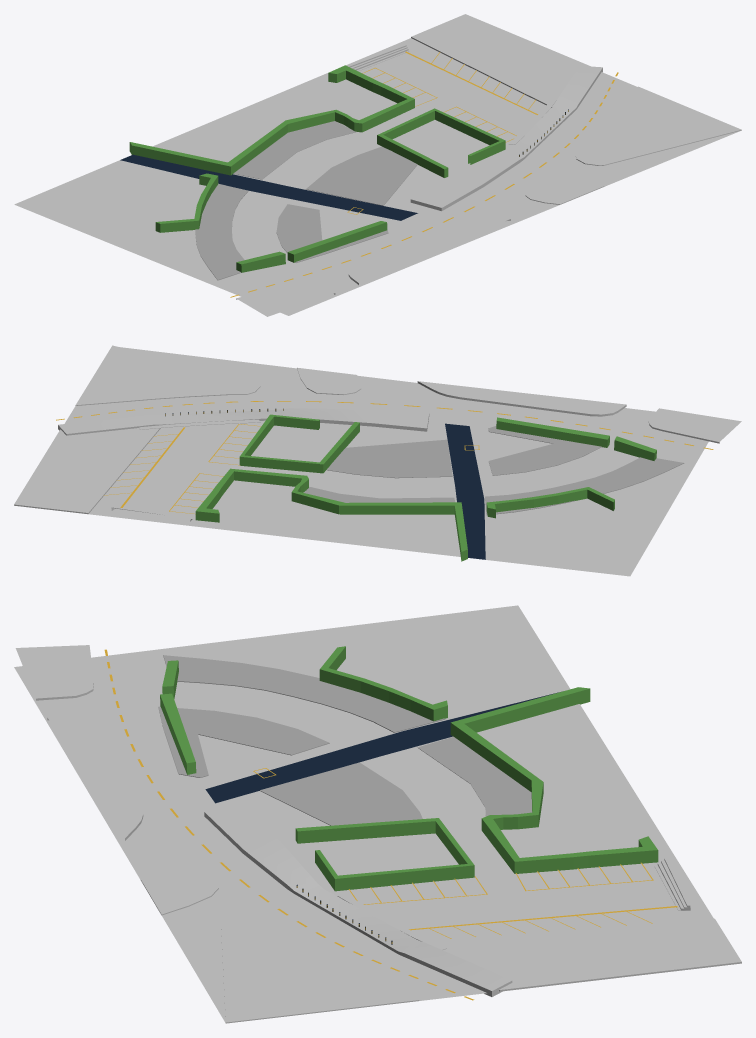
Rendered from tcc.fbx.
3 views of the same model, one above another, from view 1: azimuth 30°, elevation 25°; view 2: azimuth 150°, elevation 25°; view 3: azimuth 270°, elevation 25° (orthographic). The views are drawn at different scales.
Parts seen in each view (by area): view 1: S_22, S_23, S_1, S_25; view 2: S_22, S_23, S_1, S_25, S_24; view 3: S_22, S_23, S_1, S_25, S_24.
Part boxes in pixels (x1,y1,x2,y2): S_22: (14,14,741,315); S_23: (195,44,602,316); S_1: (129,65,505,272); S_25: (362,51,537,142); S_22: (14,345,708,576); S_23: (58,381,741,521); S_1: (195,414,656,561); S_25: (104,424,260,514); S_24: (56,401,713,449); S_22: (14,605,741,1023); S_23: (15,645,690,996); S_1: (160,646,658,891); S_25: (348,862,677,938); S_24: (104,649,474,1000).
Size of the model in its own units: 10932 by 268 by 8042.
